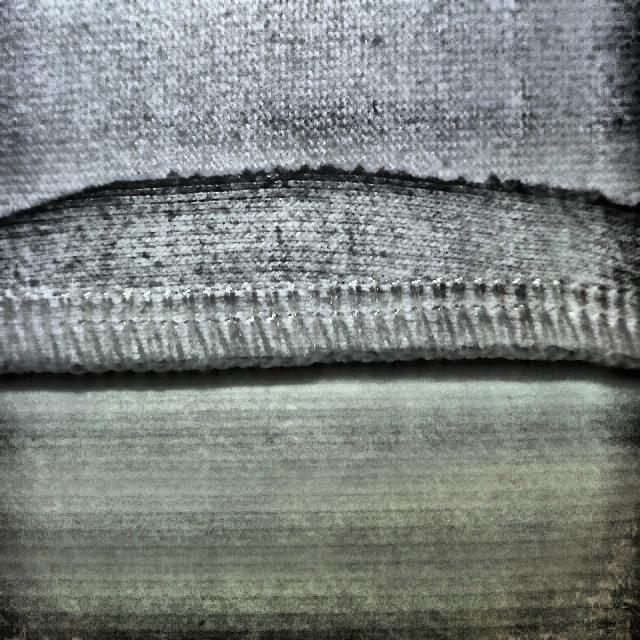seam: (22, 98, 640, 375)
